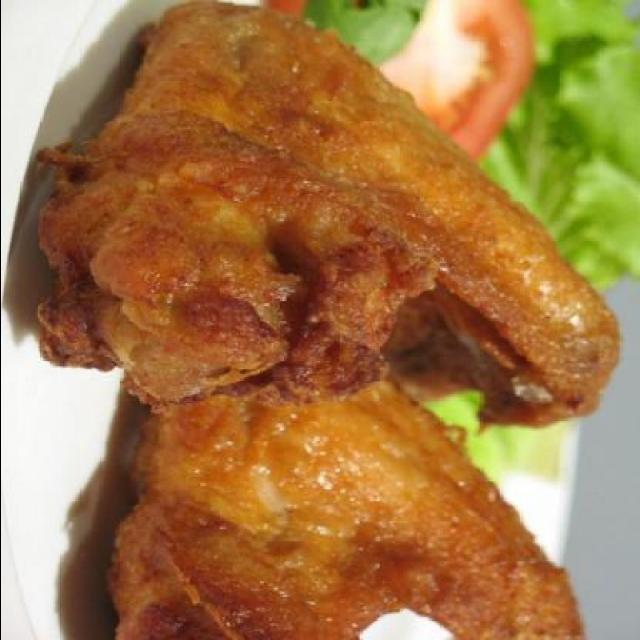Deep fried chicken wing: (27, 9, 604, 418)
